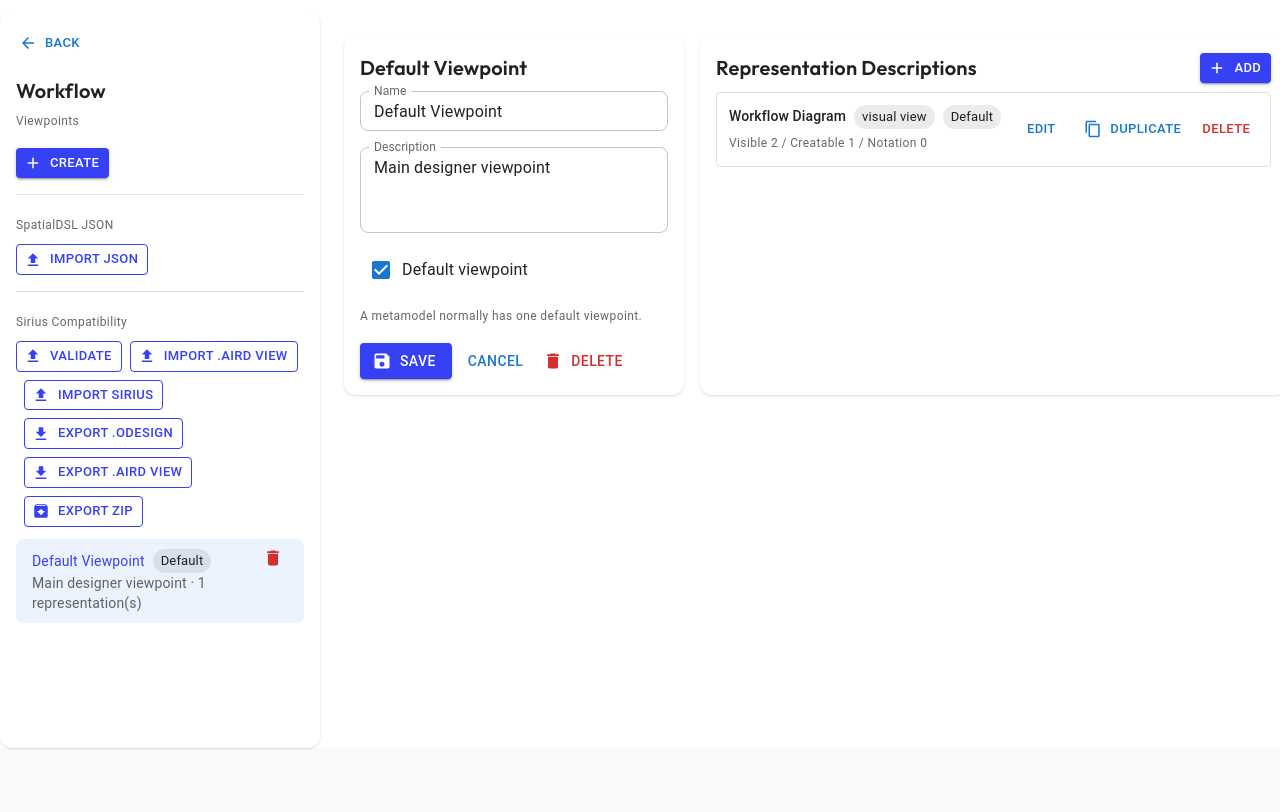
ViewpointManager › excludes abstract metaclasses from the creatable selector
Click the button "Edit".
click(1041, 130)  # box [1009, 114, 1073, 145]
(page scrolled)
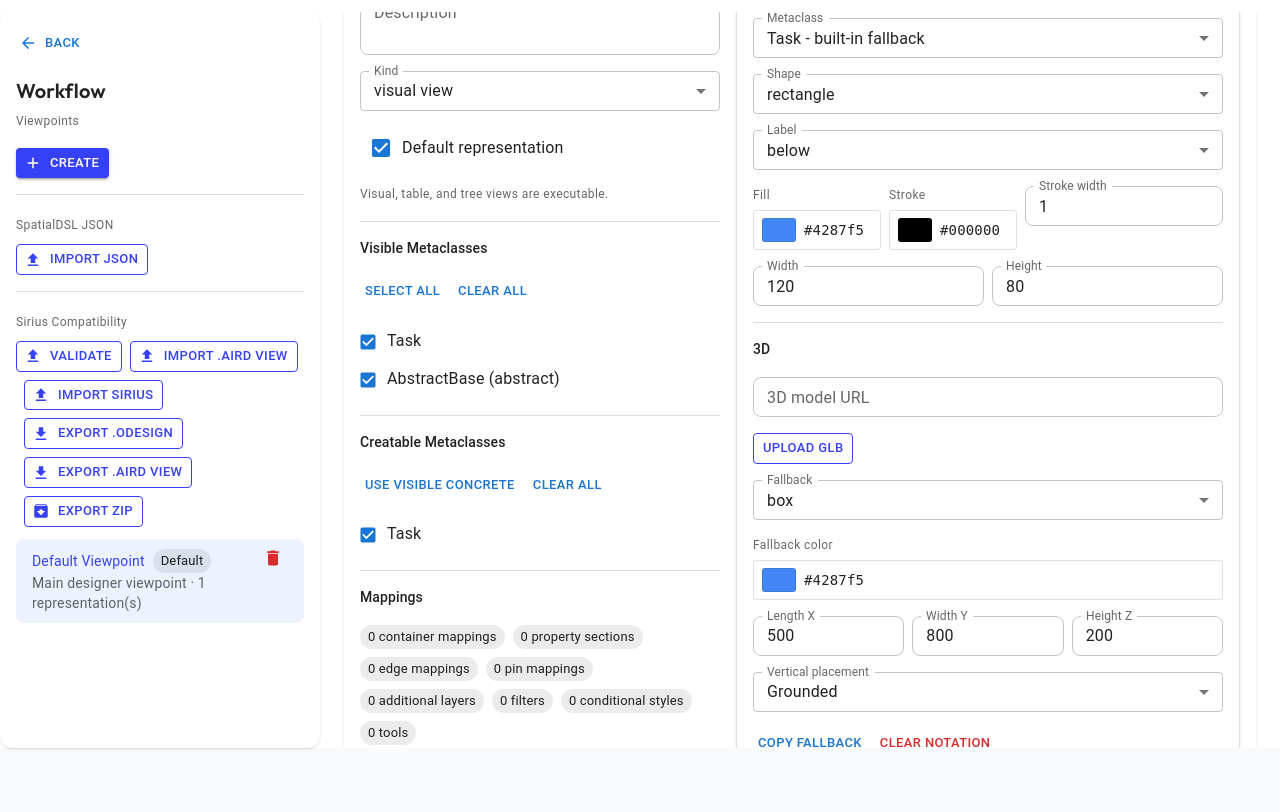
Now the checkbox labelled "AbstractBase (abstract)" is shown, box [360, 368, 560, 390]
